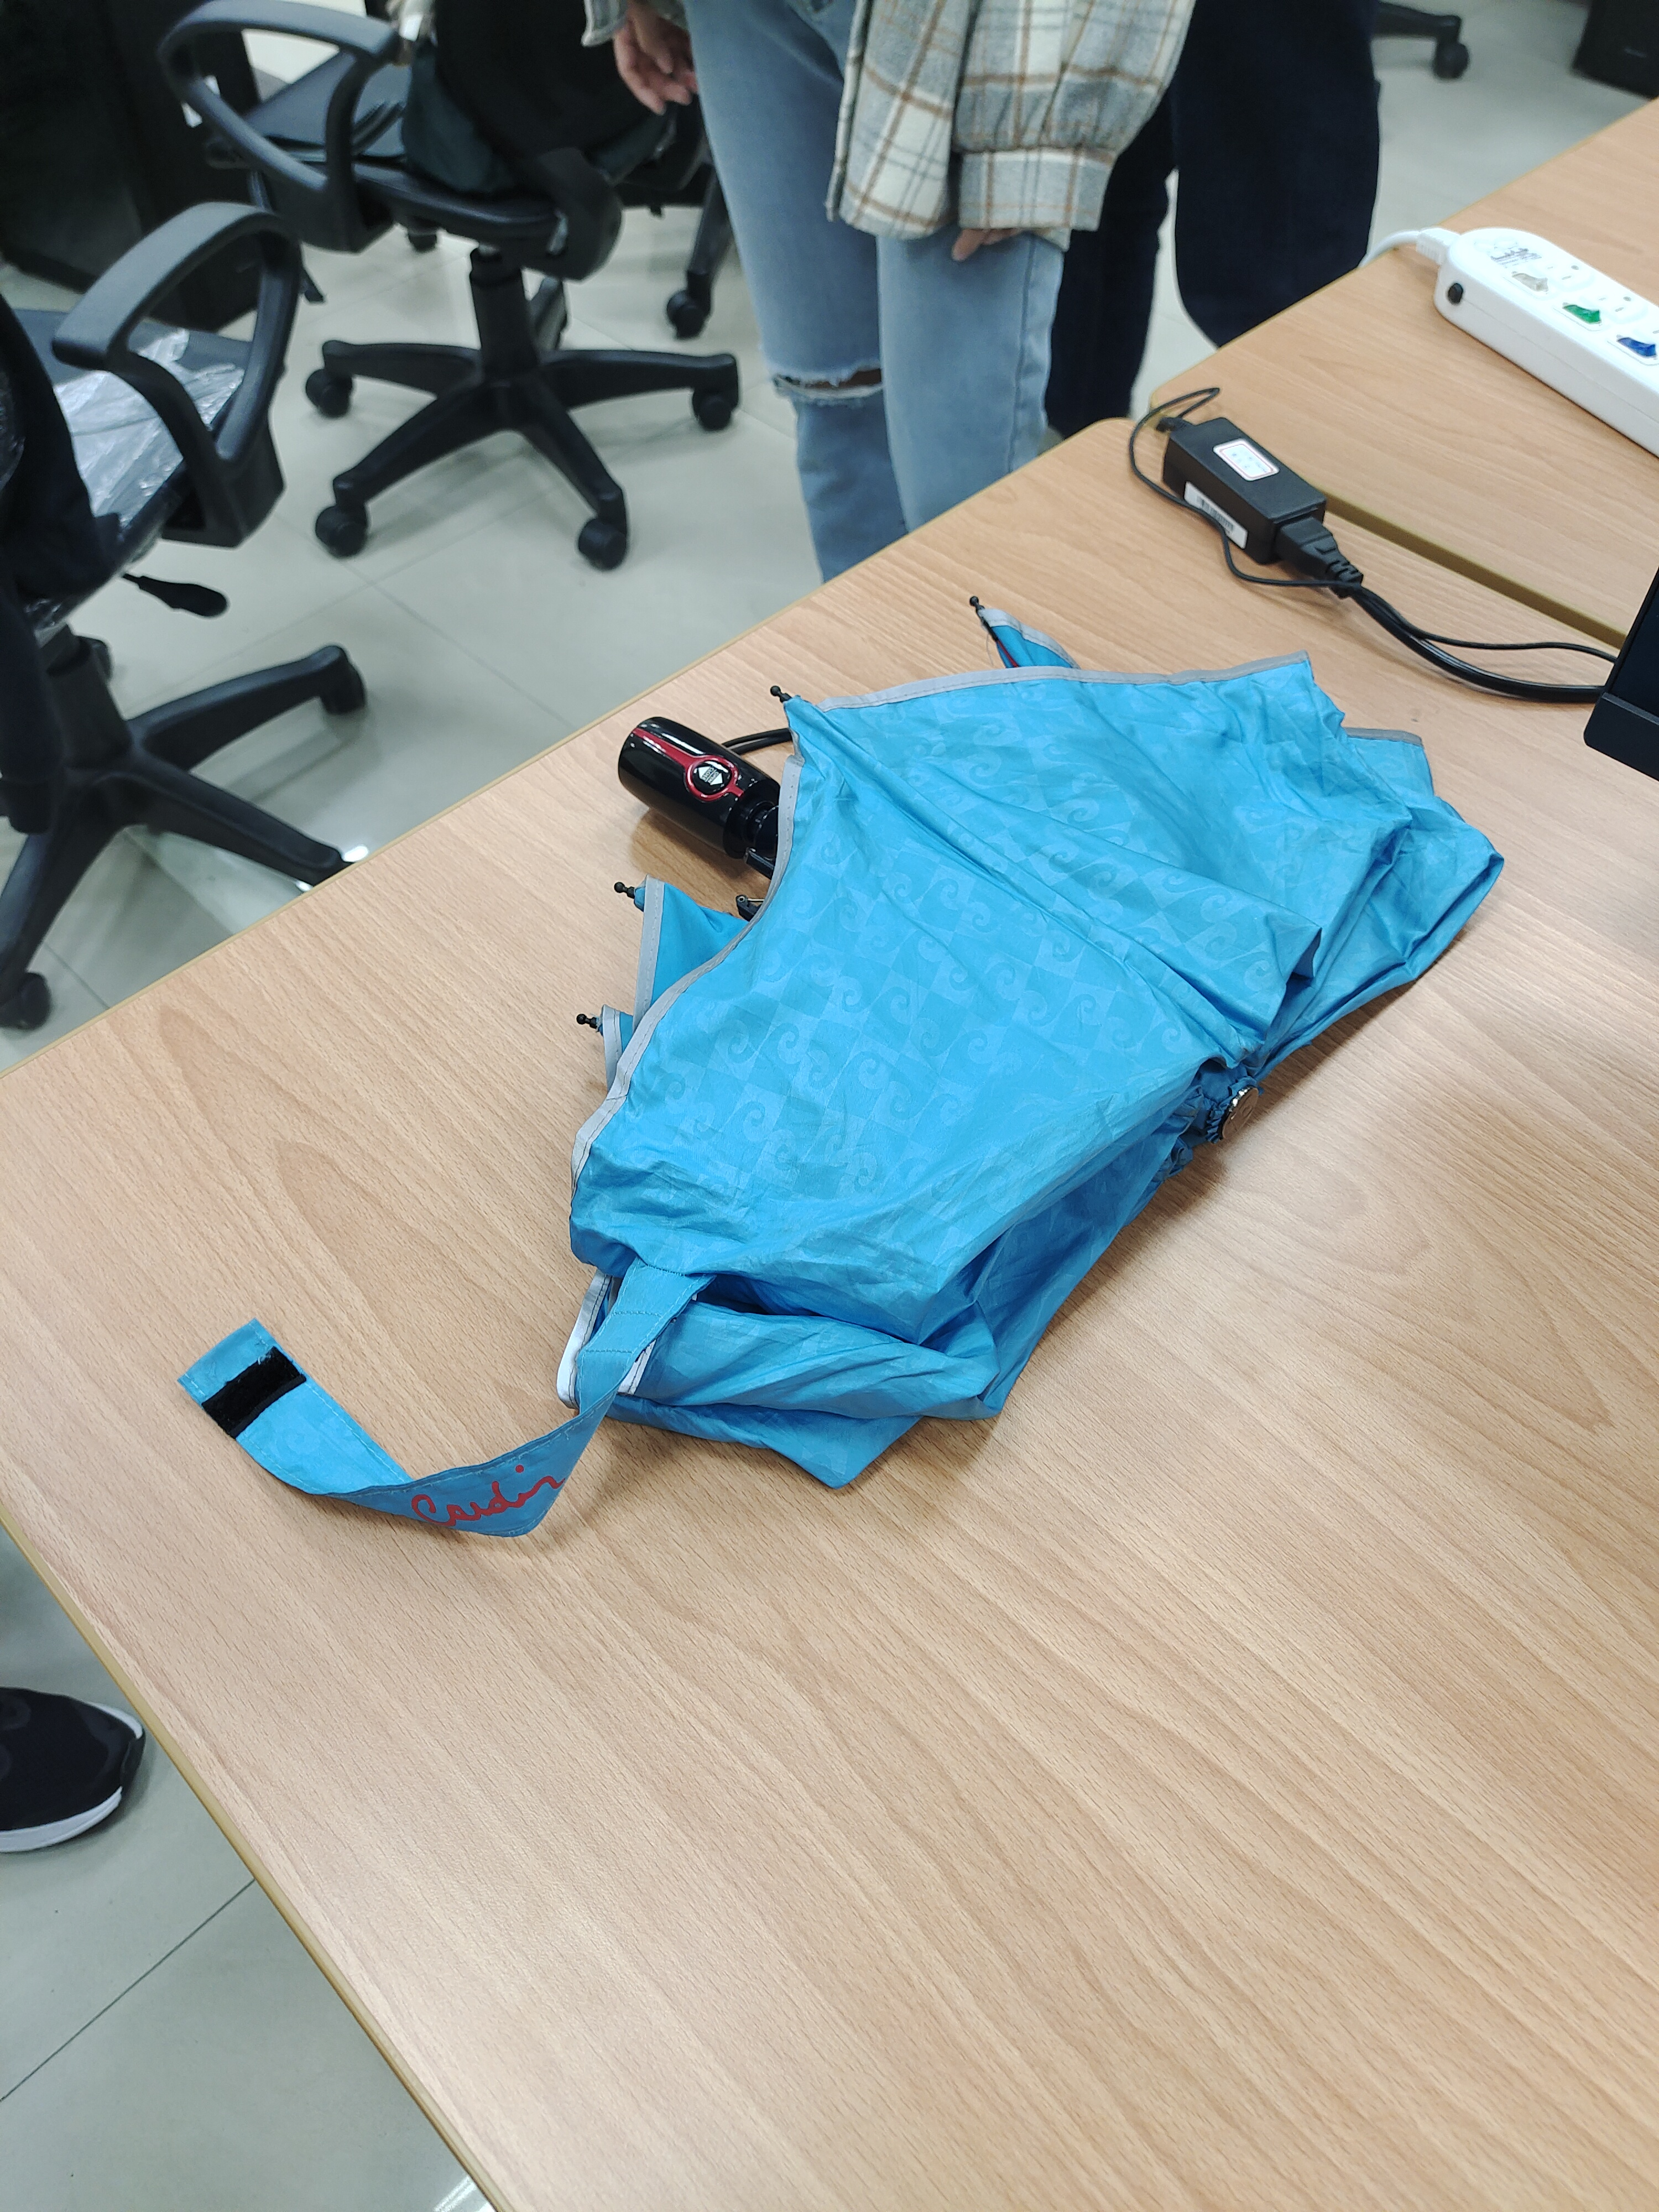umbrella: (218, 536, 1530, 1594)
